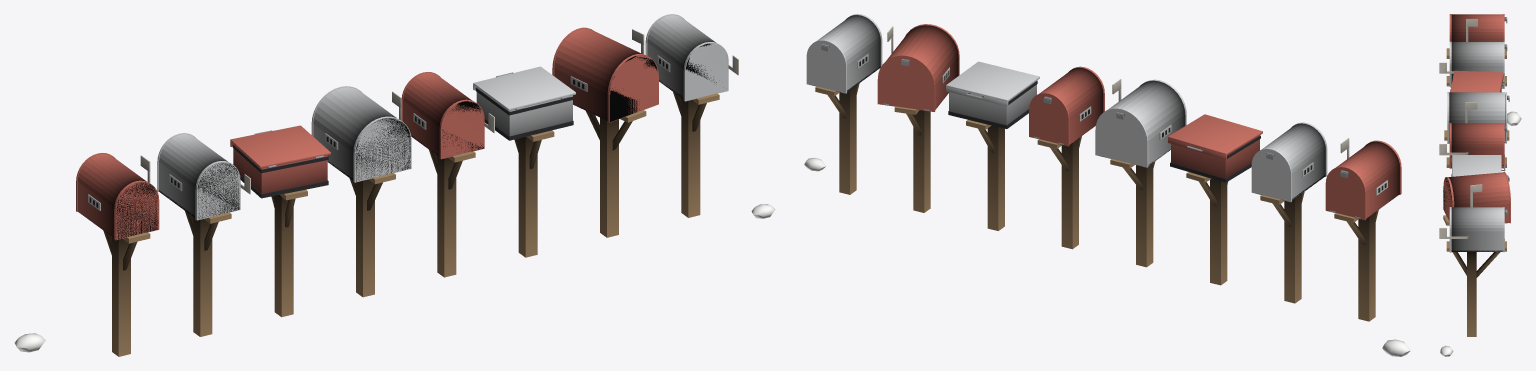
The model's file is mailboxes.glb.
3 renders of one model, left to right at view 1: azimuth 30°, elevation 25°; view 2: azimuth 150°, elevation 25°; view 3: azimuth 270°, elevation 25°, orthographic. The views are drawn at different scales.
Parts seen in each view (by area): view 1: PART, DOOR_mail5, DOOR_mail2; view 2: PART, DOOR_mail6, DOOR_mail3, DOOR_mail5, DOOR_mail2, DOOR_mail0, DOOR_mail1, DOOR_mail4, DOOR_mail7; view 3: PART, DOOR_mail2, DOOR_mail5, DOOR_mail6, DOOR_mail3, DOOR_mail7, DOOR_mail1, DOOR_mail4.
Part boxes in pixels (x1,y1,x2,y2): PART: (14, 15, 775, 356); DOOR_mail5: (473, 66, 575, 110); DOOR_mail2: (230, 125, 330, 168); PART: (804, 14, 1410, 356); DOOR_mail6: (877, 55, 935, 111); DOOR_mail3: (1095, 108, 1148, 167); DOOR_mail5: (946, 61, 1039, 106); DOOR_mail2: (1168, 114, 1262, 159); DOOR_mail0: (1325, 166, 1365, 220); DOOR_mail1: (1251, 148, 1291, 202); DOOR_mail4: (1029, 92, 1069, 146); DOOR_mail7: (806, 40, 846, 93); PART: (1439, 14, 1521, 356); DOOR_mail2: (1450, 70, 1505, 92); DOOR_mail5: (1451, 155, 1505, 176); DOOR_mail6: (1503, 172, 1510, 223); DOOR_mail3: (1505, 92, 1509, 143); DOOR_mail7: (1503, 207, 1507, 252); DOOR_mail1: (1503, 41, 1507, 86); DOOR_mail4: (1503, 123, 1507, 168).
Bounding box in the file's own units: 4.72 × 1.24 × 0.6844.
